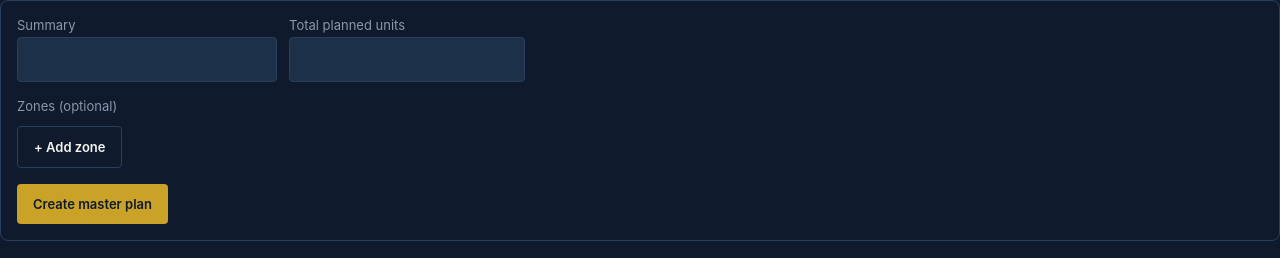
Test case: CreateMasterPlanForm — submit › shows the action-returned error message on failure
This screenshot has width=1280, height=258.
Click the button "Create master plan". click: x=92, y=204
box: 17,184 -> 168,224
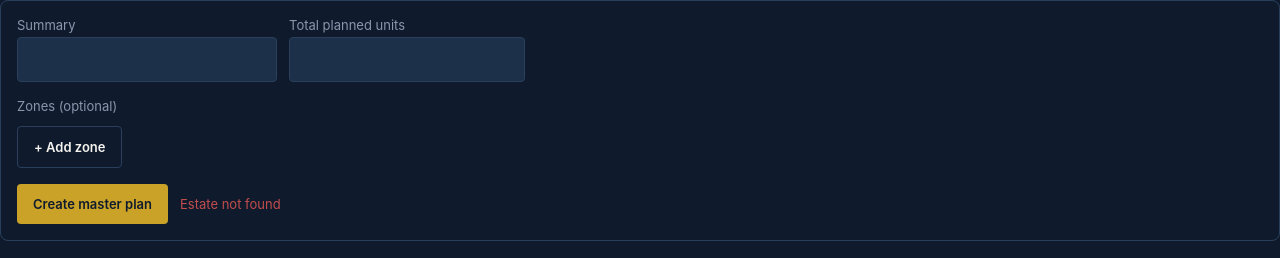
Expected: the text "Estate not found" is shown, 180,196 -> 281,212
